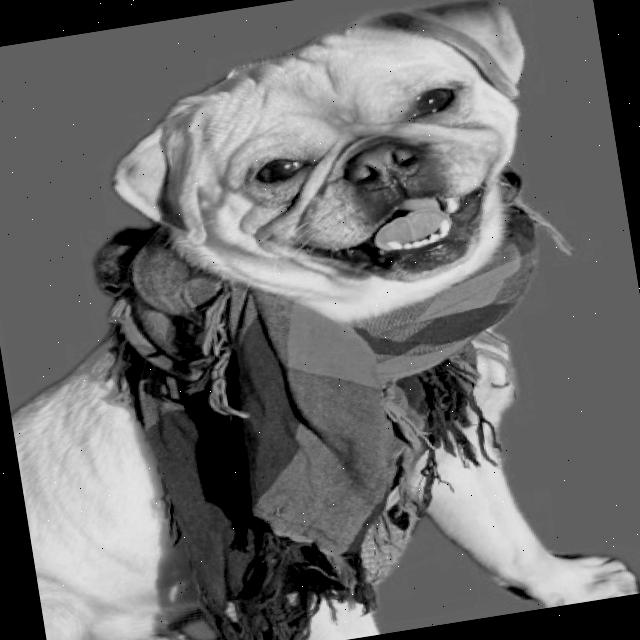pug_dog: (80, 0, 583, 346)
